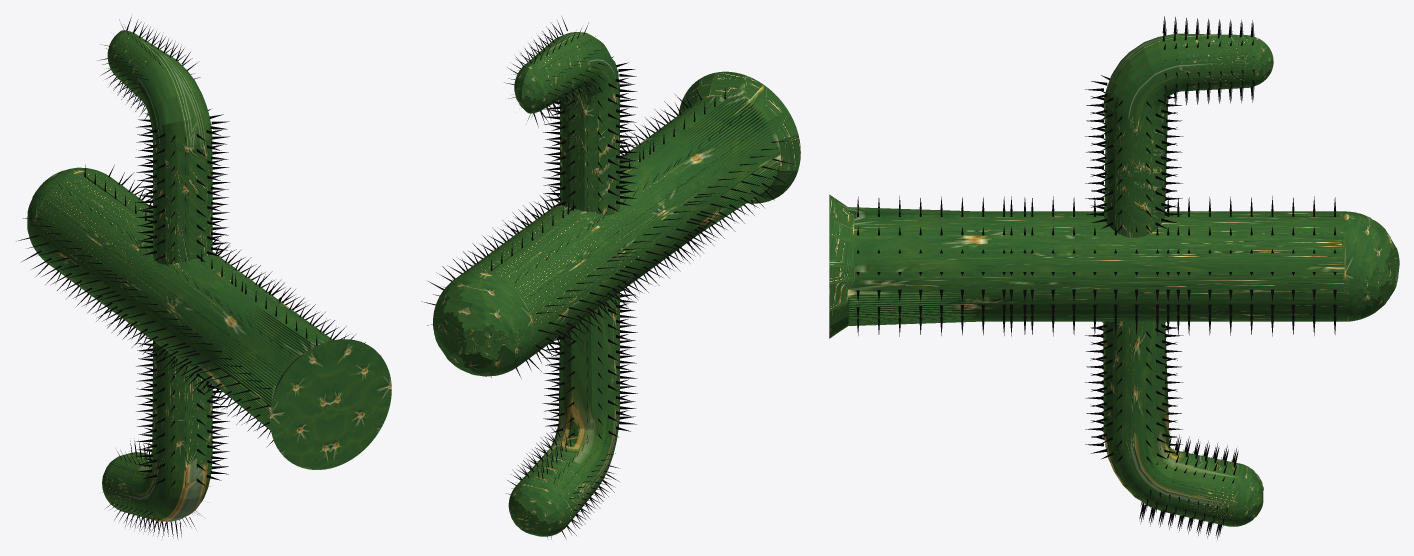
The model's file is kaktus3.fbx.
3 renders of one model, left to right at view 1: azimuth 30°, elevation 25°; view 2: azimuth 150°, elevation 25°; view 3: azimuth 270°, elevation 25°, orthographic. The views are drawn at different scales.
Parts seen in each view (by area): view 1: Cylinder.001; view 2: Cylinder.001; view 3: Cylinder.001.
Boxes of the visible parts, x1,y1,x2,y2 form: Cylinder.001: (16, 17, 391, 539); Cylinder.001: (421, 16, 800, 539); Cylinder.001: (829, 16, 1399, 539).
Bounding box in the file's own units: 465 × 138 × 464.
